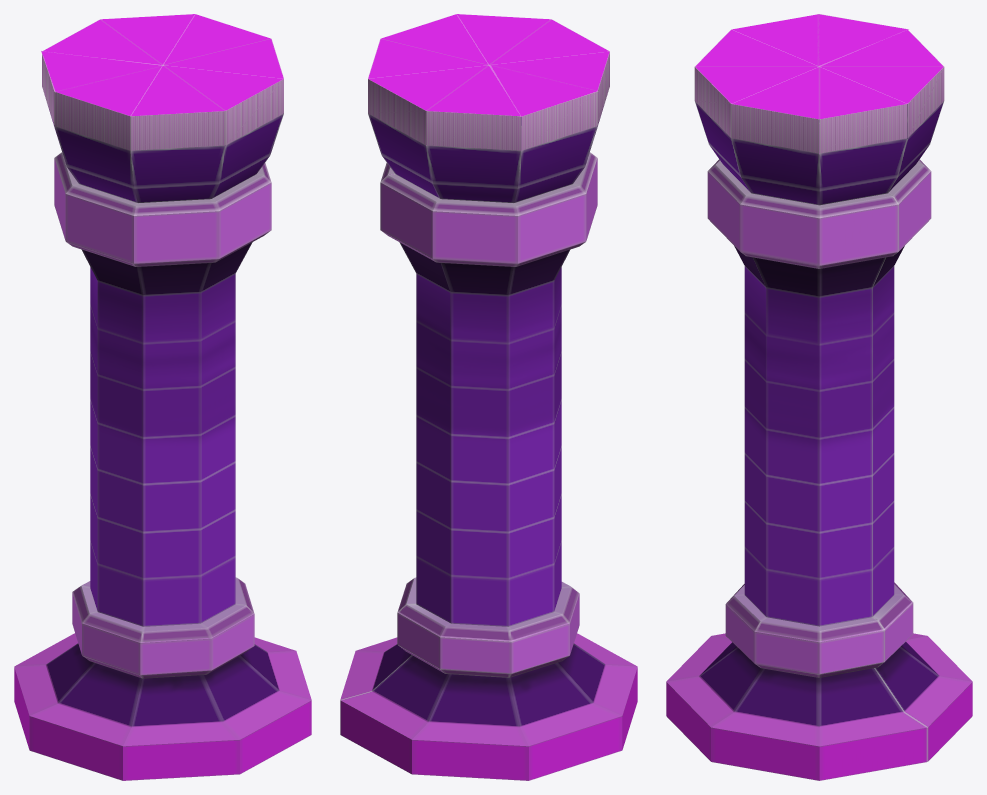
Rendered from Asset_Balustrade 1.fbx.
The picture shows the model from 3 angles, left to right: view 1: azimuth 30°, elevation 25°; view 2: azimuth 150°, elevation 25°; view 3: azimuth 270°, elevation 25°; orthographic projection.
Parts seen in each view (by area): view 1: pCylinder1; view 2: pCylinder1; view 3: pCylinder1.
Part boxes in pixels (left/top/right/bottom): pCylinder1: left=14, top=14, right=311, bottom=780; pCylinder1: left=340, top=14, right=637, bottom=780; pCylinder1: left=666, top=14, right=972, bottom=780.
Bounding box in the file's own units: 0.9979 × 2.35 × 0.9979.
